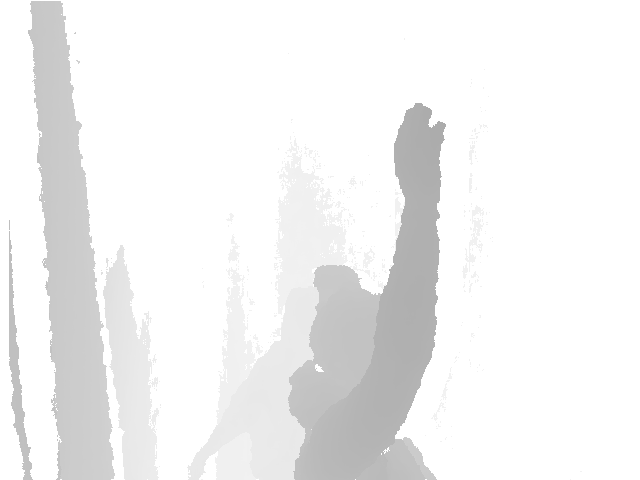hand: (392, 103, 446, 210)
head: (309, 266, 403, 381)
person: (286, 103, 447, 480)
